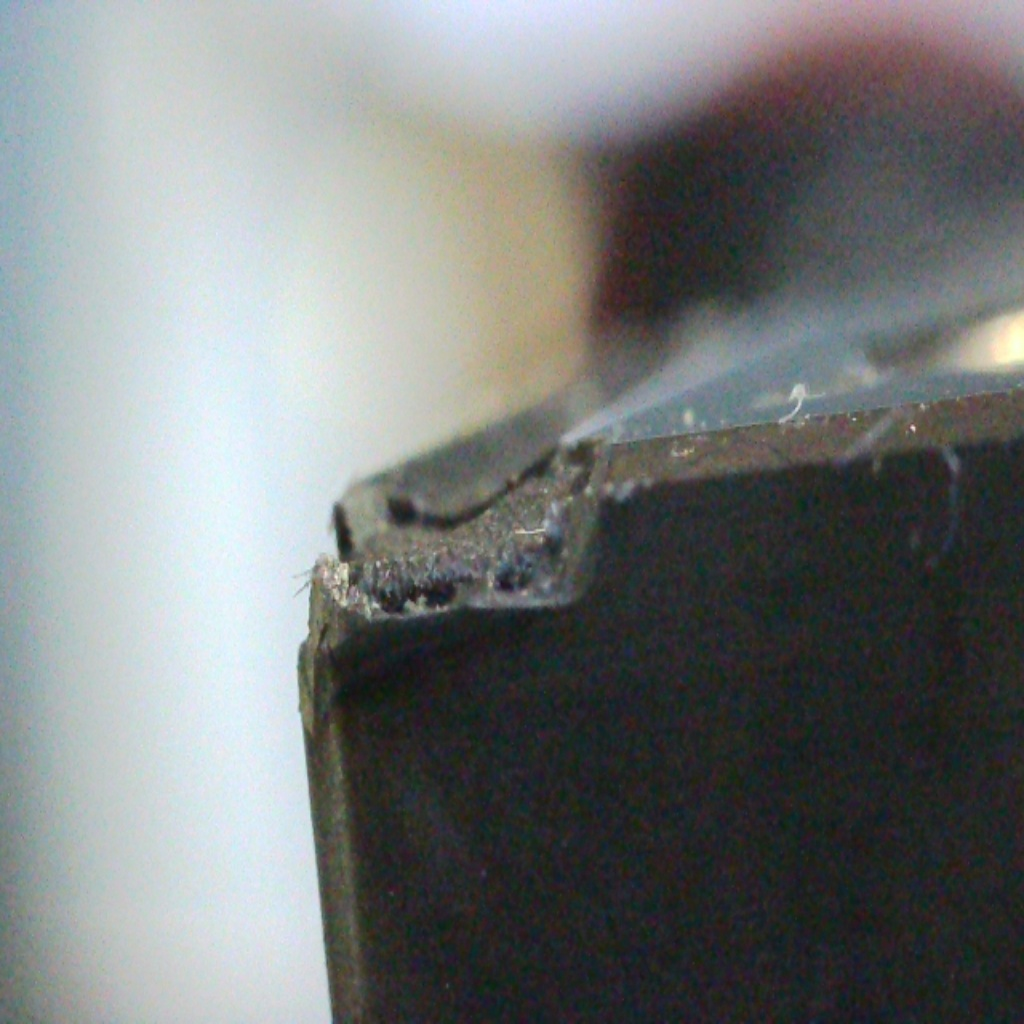flank_wear: (301, 529, 592, 733)
